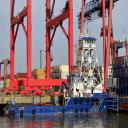tugboat: (3, 32, 121, 123)
